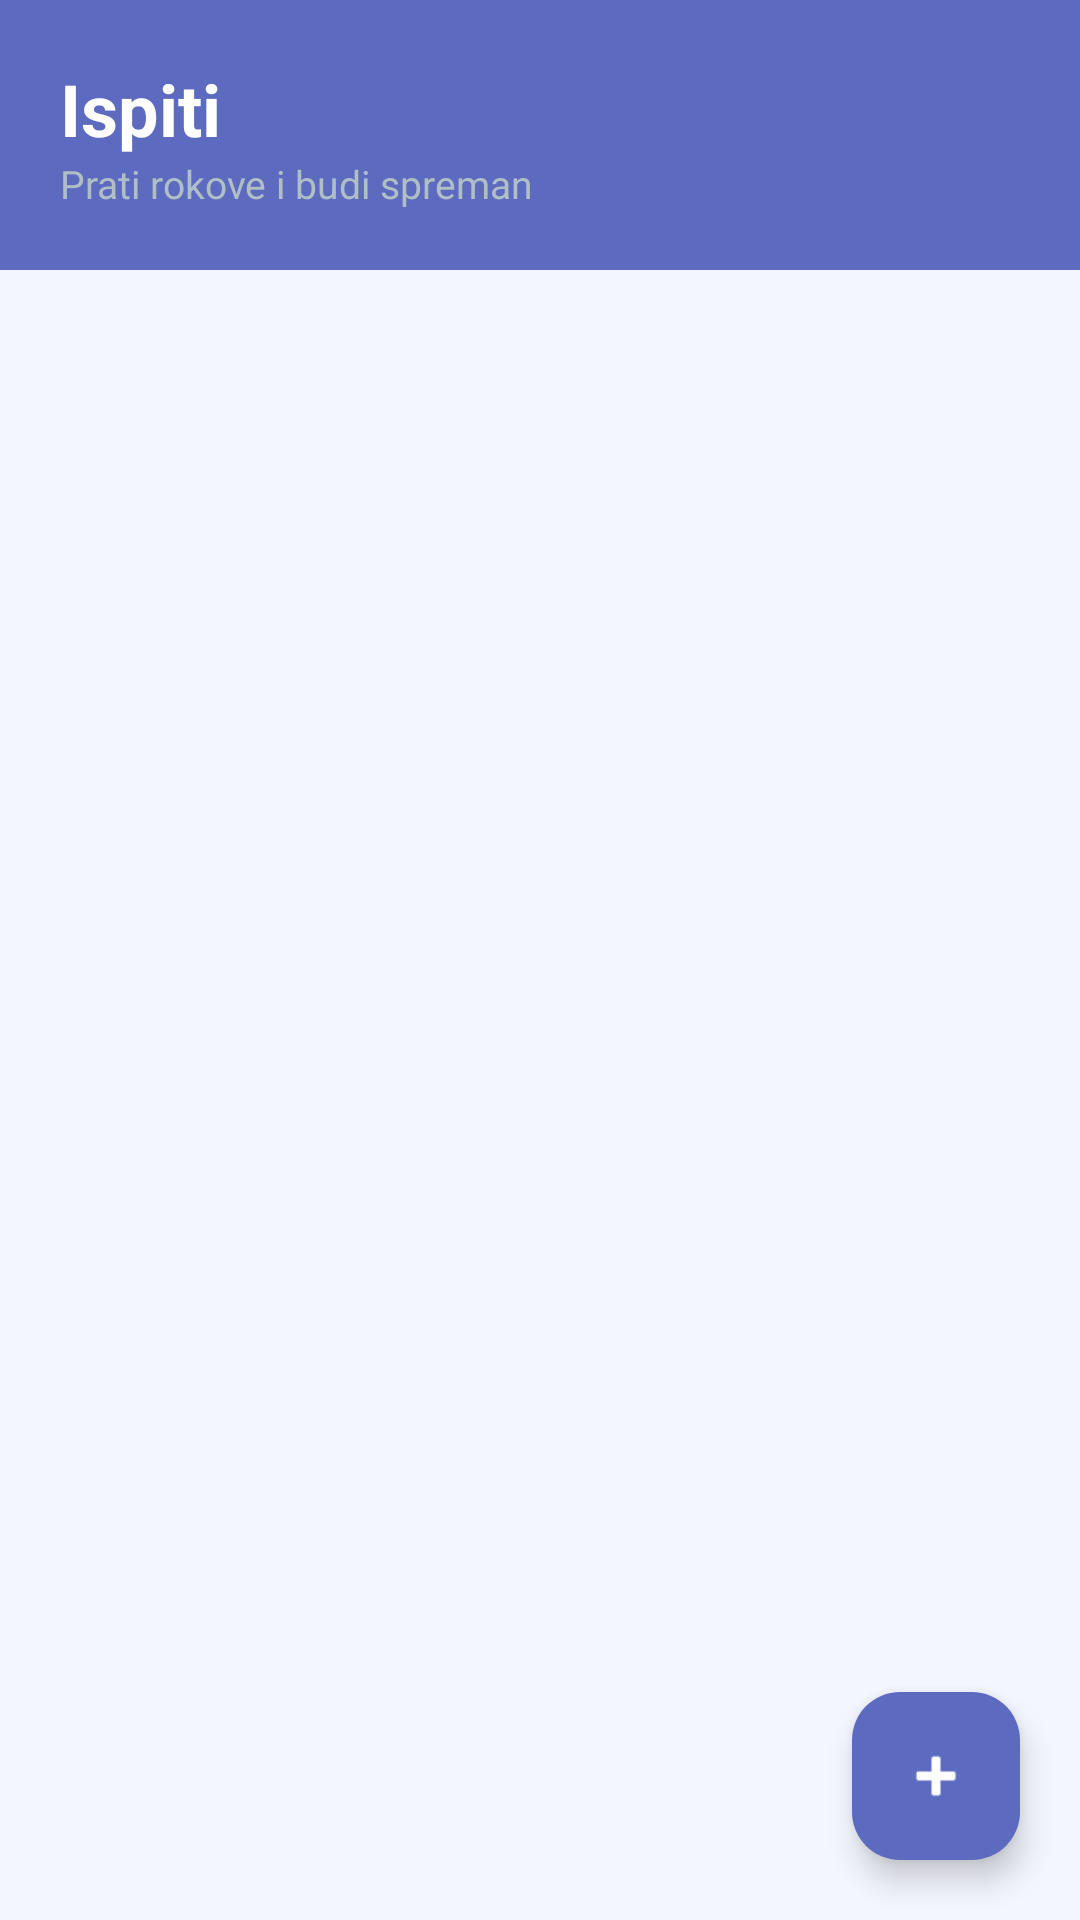

Icons on this 1080px×1920px Android screen, each with the point to tap as point (x, y):
add: point (936, 1776)
